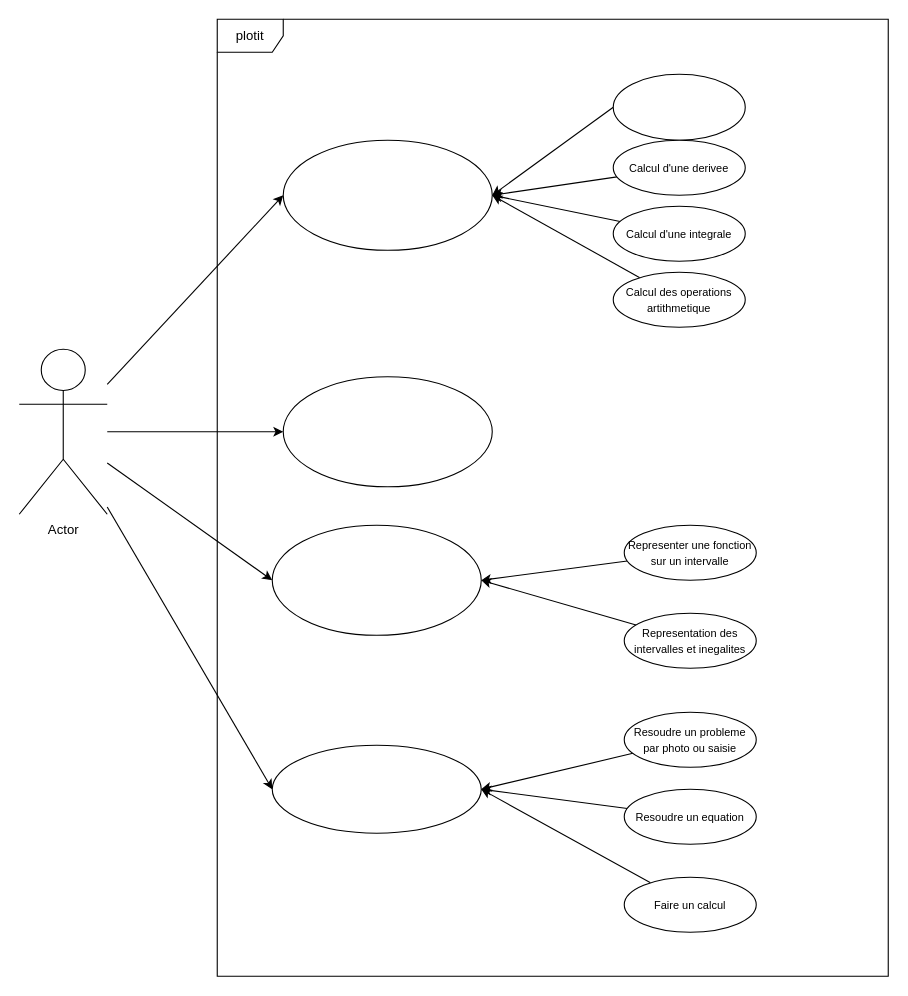
The diagram is 908 pixels wide and 996 high, and some of its shapes have lost their labels. The centre of each missing label's shape, as x and y in pixels:
"Cacul d'une limite" goes at [678,106].
"Calcul des operations arithmetiques et scientifiques" goes at [387,194].
"Convertir des unites de grandeurs" goes at [387,431].
"Representer des elements mathematiques graphiquement" goes at [376,579].
"Utiliser le solveur mathematique" goes at [376,788].
